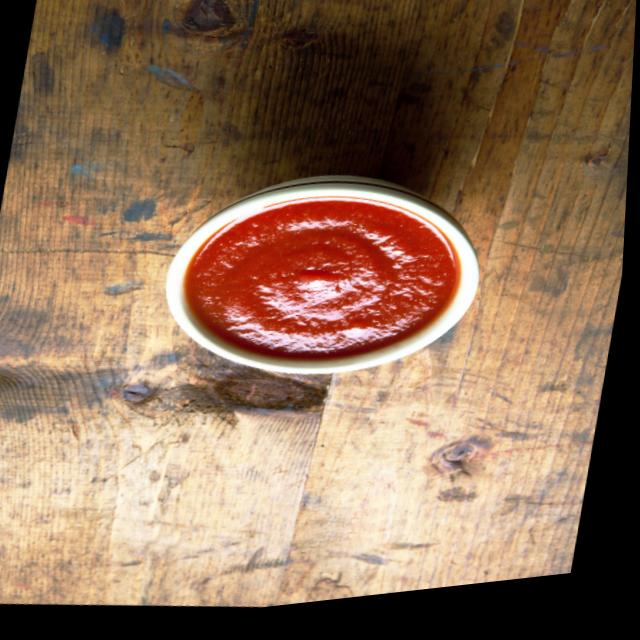ketchup: (155, 157, 484, 399)
